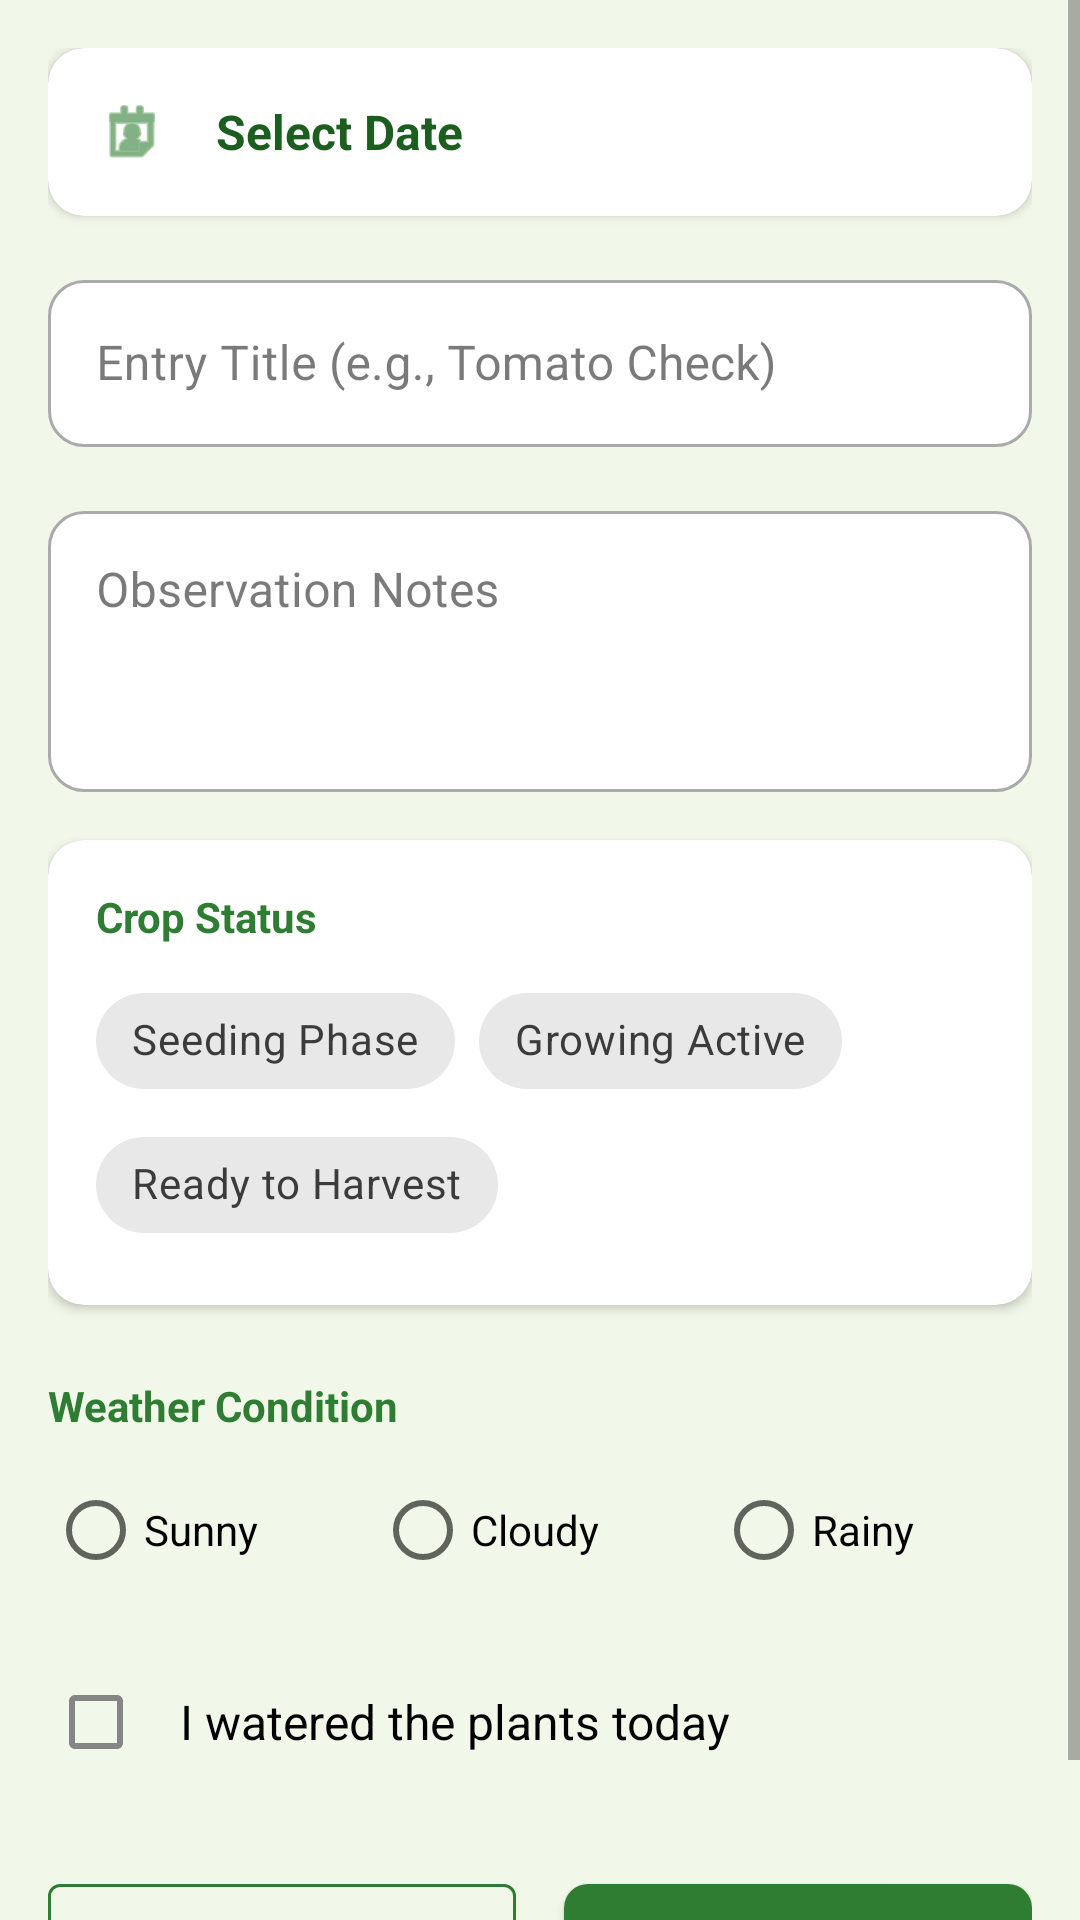

Locate icon controls on the screen. Image size 1080 × 1920, boxes as (x1, y1, x2, y2).
calendar: (109, 105, 155, 158)
